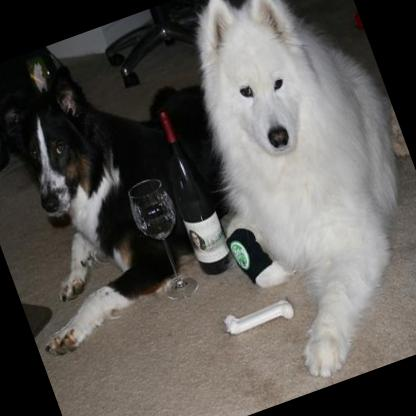Samoyed: (142, 0, 416, 391)
